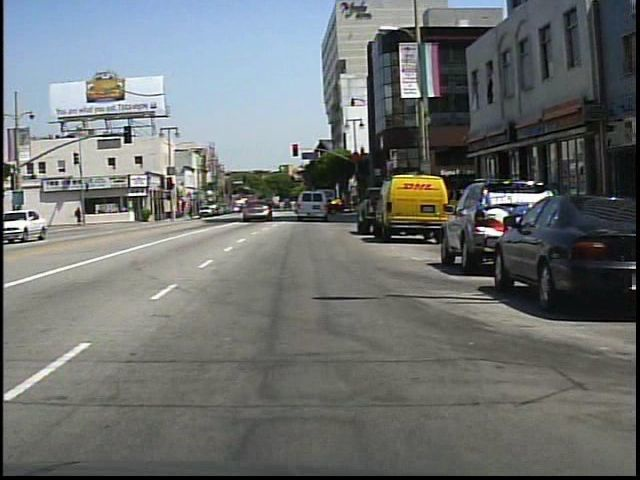person: (254, 193, 271, 222), (75, 205, 84, 226)
